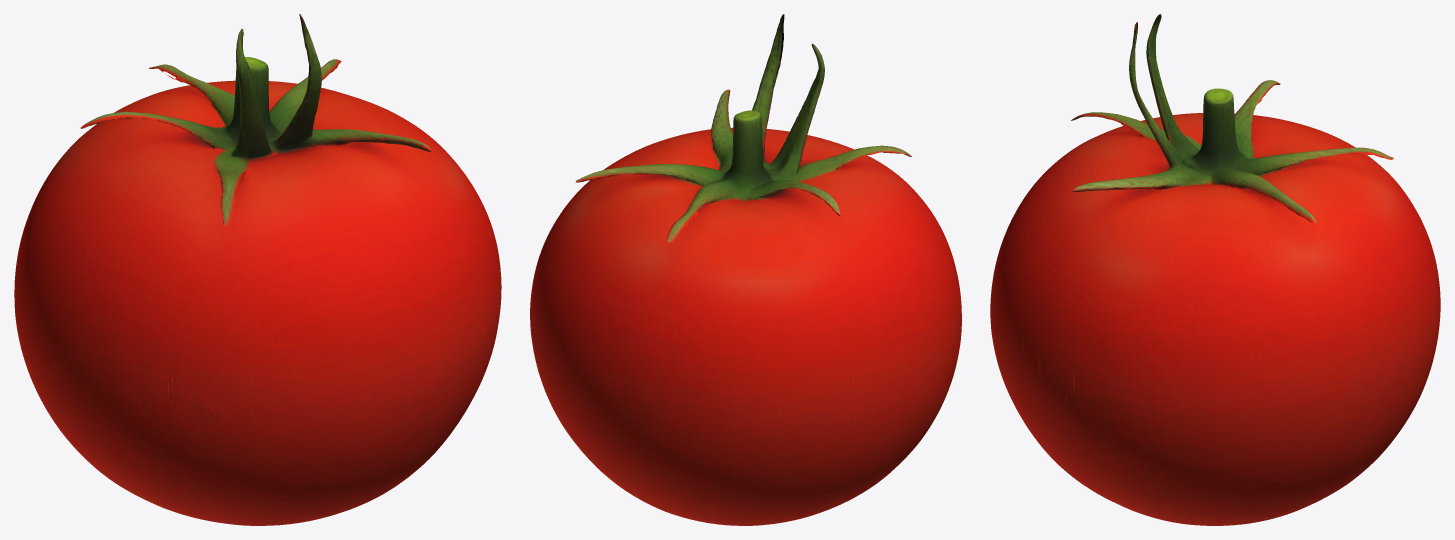
File: cherry_tomato.glb
3 views of the same model, side by side, from view 1: azimuth 30°, elevation 25°; view 2: azimuth 150°, elevation 25°; view 3: azimuth 270°, elevation 25° (orthographic). The views are drawn at different scales.
Parts seen in each view (by area): view 1: cherry_tomato.obj; view 2: cherry_tomato.obj; view 3: cherry_tomato.obj.
Part boxes in pixels (x1,y1,x2,y2): cherry_tomato.obj: [14, 14, 501, 525]; cherry_tomato.obj: [530, 14, 961, 525]; cherry_tomato.obj: [990, 14, 1440, 525].
Size of the model in its own units: 0.0299 by 0.035 by 0.0298.
Materials: 1 (1 with a texture image).
